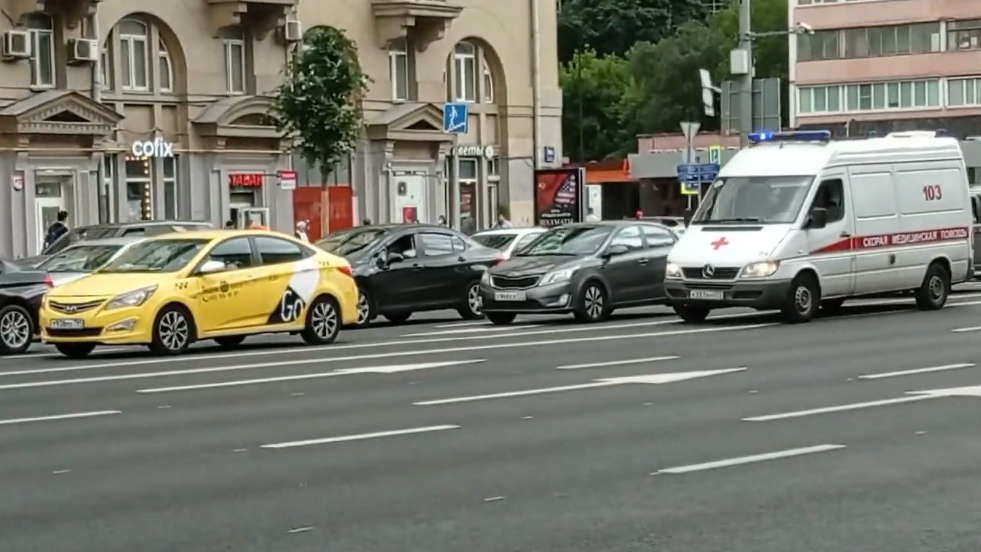ambulance: (660, 127, 972, 324)
non emergency car: (38, 221, 358, 362), (305, 227, 501, 330), (479, 223, 672, 326)
